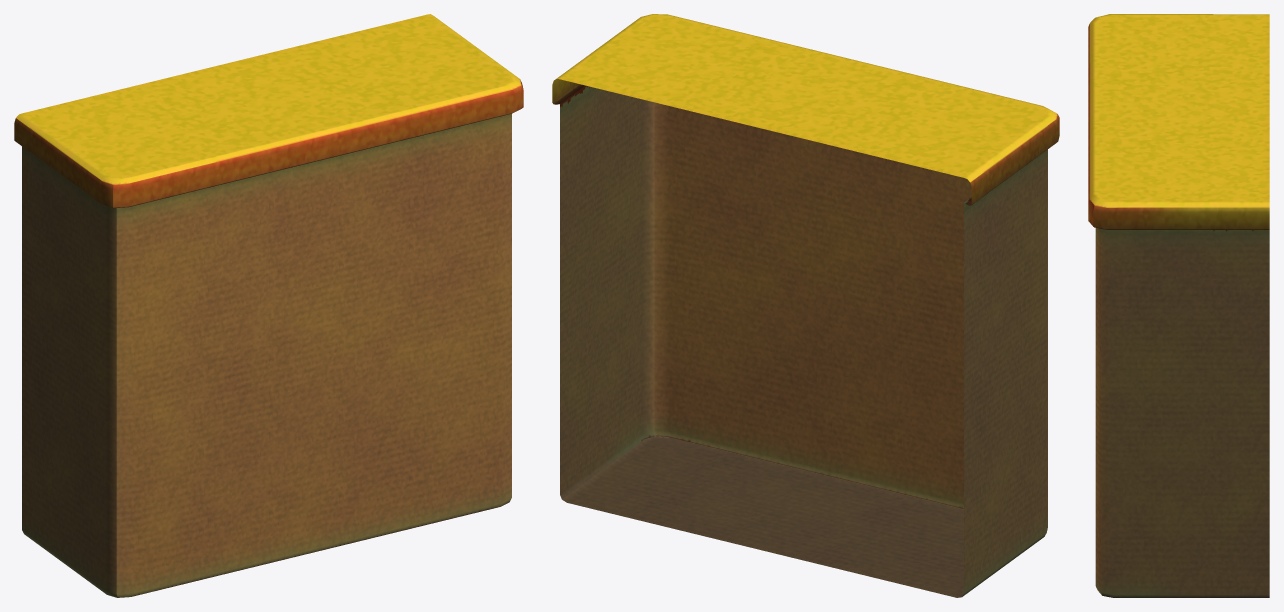
The model's file is JimenHi_C.fbx.
The picture shows the model from 3 angles, left to right: view 1: azimuth 30°, elevation 25°; view 2: azimuth 150°, elevation 25°; view 3: azimuth 270°, elevation 25°; orthographic projection. The views are drawn at different scales.
Parts seen in each view (by area): view 1: StageHi; view 2: StageHi; view 3: StageHi.
Part boxes in pixels (x1,y1,x2,y2): StageHi: [14, 14, 523, 597]; StageHi: [552, 14, 1059, 597]; StageHi: [1088, 14, 1269, 597].
Bounding box in the file's own units: 13.27 × 12.76 × 5.25.
